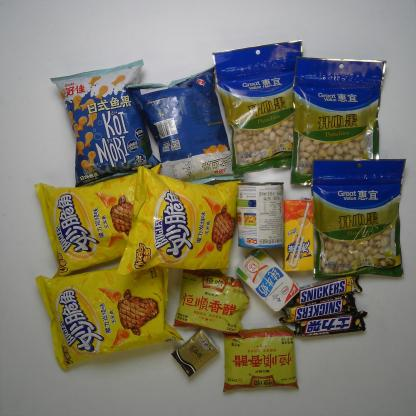Canned Food: (236, 181, 286, 250)
Chocolate: (278, 291, 360, 323), (290, 272, 363, 306), (294, 310, 368, 338)
Dried Fruit: (212, 39, 304, 177), (290, 56, 387, 186), (311, 157, 404, 281)
Drink: (284, 198, 316, 272)
Milk: (234, 247, 301, 313)
Puffed Food: (34, 262, 187, 372), (33, 162, 162, 279), (125, 64, 245, 186), (50, 58, 162, 188), (116, 164, 243, 277)
Seasoner: (172, 268, 251, 339), (222, 325, 299, 394)
Tissue: (170, 328, 221, 378)
